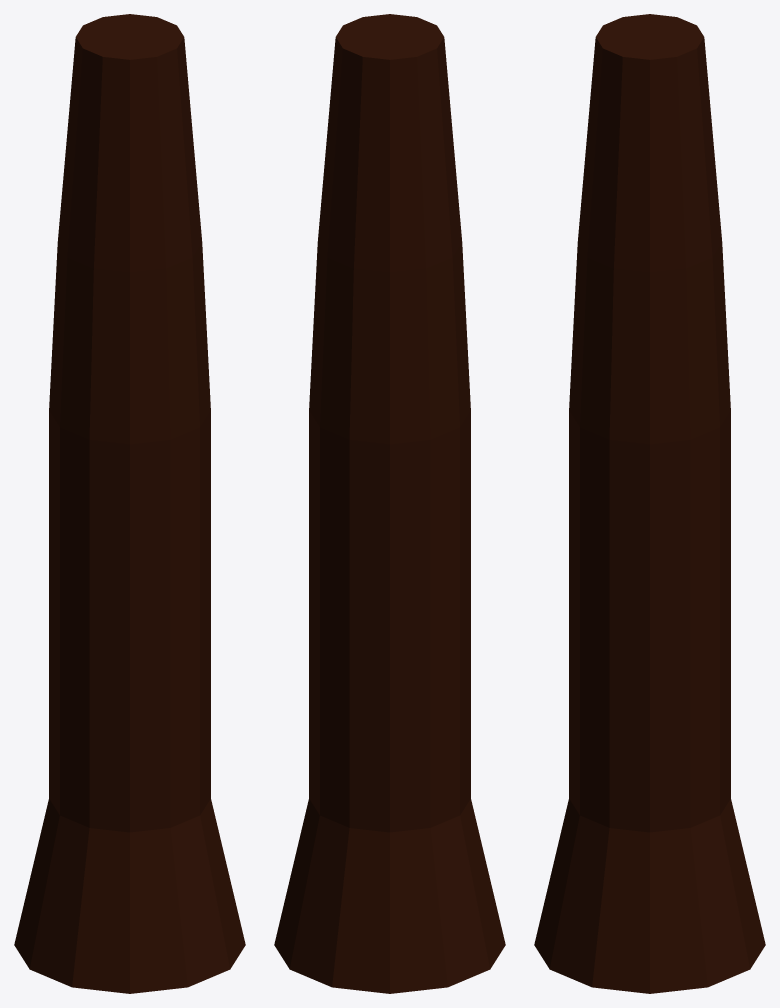
File: Tronc.fbx
3 renders of one model, left to right at view 1: azimuth 30°, elevation 25°; view 2: azimuth 150°, elevation 25°; view 3: azimuth 270°, elevation 25°, orthographic.
Parts seen in each view (by area): view 1: Cylinder; view 2: Cylinder; view 3: Cylinder.
Boxes of the visible parts, bbox=[...] form: Cylinder: bbox=[14, 14, 245, 993]; Cylinder: bbox=[274, 14, 505, 993]; Cylinder: bbox=[534, 14, 765, 993].
Bounding box in the file's own units: 286 × 1238 × 286.
